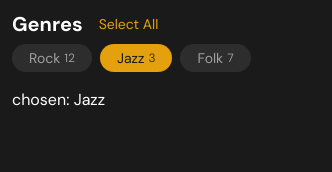
Test: ChipPicker › adds a chip that was not chosen, and removes one that was
Click the button "Rock 12": (52, 58) [12,44,92,72]
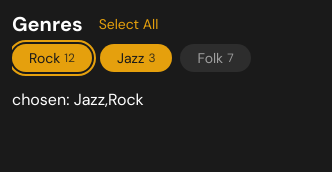
Check: the text "chosen: Jazz,Rock" is shown, box [12,89,144,110]
Click the button "Jazz 3": (136, 58) [100,44,172,72]
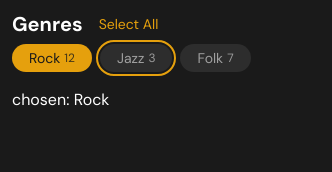
Check: the text "chosen: Rock" is shown, box [12,89,109,110]
